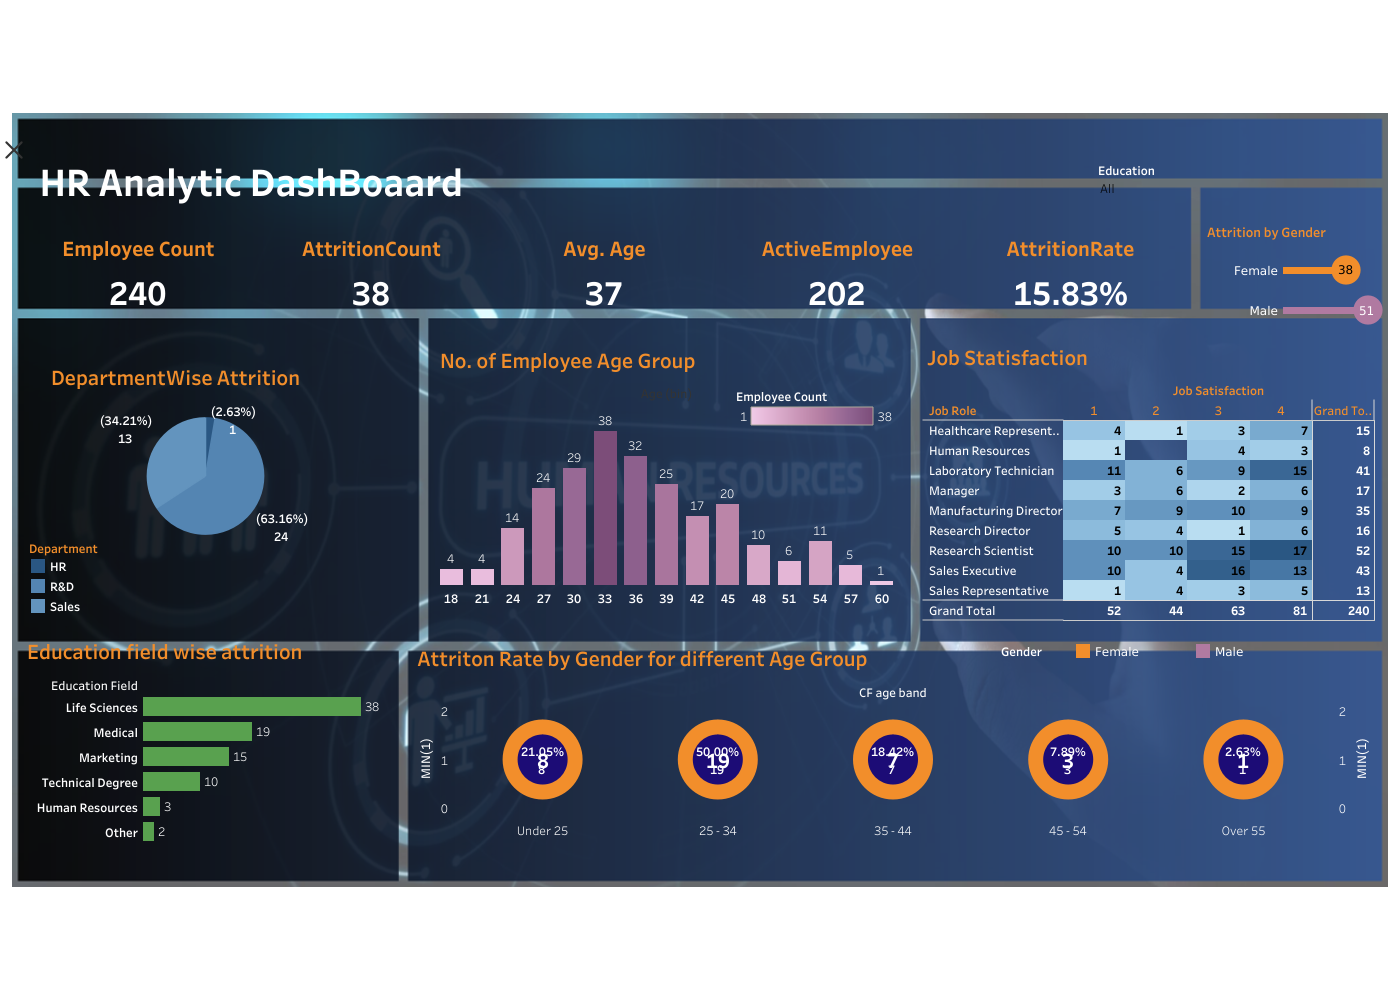

The page's visual inventory and layout, read from the dashboard file:
{"tool":"tableau","page":{"name":"HR-Analytic","canvas":[1000,1000],"units":"permille","ordinal":0},"visuals":[{"type":"image","param":"Image/HR background.pptx.png","box":[7,8.9,986,982.2]},{"type":"dashboard-object","box":[0,136.7,21.1,26.7]},{"type":"filter","title":"DepartmentWise Attrition","param":"[federated.0mb94ei18f9bh711kro1c19fxxae].[none:Education:nk]","box":[784,160,169.5,38.9]},{"type":"text","box":[26.3,163.3,426.7,33.3]},{"type":"worksheet","title":"Attrition by Gender","mark":"Automatic","rows":["Gender"],"cols":["Calculation_91479403760234498","Calculation_91479403760234498"],"box":[859.5,215.6,131.7,114.4]},{"type":"worksheet","title":"KPI","mark":"Automatic","box":[15.8,222.2,832.3,100]},{"type":"worksheet","title":"Job Statisfaction","mark":"Square","rows":["Job Role"],"cols":["Job Satisfaction"],"box":[659.4,336.7,323.1,284.4]},{"type":"worksheet","title":"No. of Employee Age Group","mark":"Automatic","rows":["Employee Count"],"cols":["Age (bin)"],"box":[311.7,340,329.2,266.7]},{"type":"worksheet","title":"DepartmentWise Attrition","mark":"Pie","box":[33.4,356.7,226.5,195.6]},{"type":"legend","title":"No. of Employee Age Group","param":"[federated.0mb94ei18f9bh711kro1c19fxxae].[sum:Employee Count:qk]","box":[525.9,383.3,115,56.7]},{"type":"legend","title":"DepartmentWise Attrition","param":"[federated.0mb94ei18f9bh711kro1c19fxxae].[none:Department:nk]","box":[20.2,536.7,102.7,88.9]},{"type":"worksheet","title":"Education field wise attrition","mark":"Automatic","rows":["Education Field"],"cols":["Calculation_91479403760234498"],"box":[16.7,631.1,265.1,213.3]},{"type":"worksheet","title":" Attriton Rate by Gender for different Age Group","mark":"Pie","rows":["Calculation_91479404197769222","Calculation_91479404197769222"],"cols":["CF_age band"],"box":[292.4,637.8,691,201.1]},{"type":"legend","title":"Attrition by Gender","param":"[federated.0mb94ei18f9bh711kro1c19fxxae].[none:Gender:nk]","box":[714.7,641.1,266,24.4]}]}

Visuals, with their boxes on the dashboard's canvas, which has no fixed pixel size, in thousandths of its width and height (x1, y1, x2, y2). These are canvas units, not pixel positions in the 1399x999 screenshot, which may show the page scaled, cropped or inside an application window:
image: Rect(7, 9, 993, 991)
dashboard-object: Rect(0, 137, 21, 163)
"DepartmentWise Attrition" filter: Rect(784, 160, 954, 199)
text: Rect(26, 163, 453, 197)
"Attrition by Gender" worksheet: Rect(860, 216, 991, 330)
"KPI" worksheet: Rect(16, 222, 848, 322)
"Job Statisfaction" worksheet (Square marks): Rect(659, 337, 982, 621)
"No. of Employee Age Group" worksheet: Rect(312, 340, 641, 607)
"DepartmentWise Attrition" worksheet (Pie marks): Rect(33, 357, 260, 552)
"No. of Employee Age Group" legend: Rect(526, 383, 641, 440)
"DepartmentWise Attrition" legend: Rect(20, 537, 123, 626)
"Education field wise attrition" worksheet: Rect(17, 631, 282, 844)
" Attriton Rate by Gender for different Age Group" worksheet (Pie marks): Rect(292, 638, 983, 839)
"Attrition by Gender" legend: Rect(715, 641, 981, 666)
